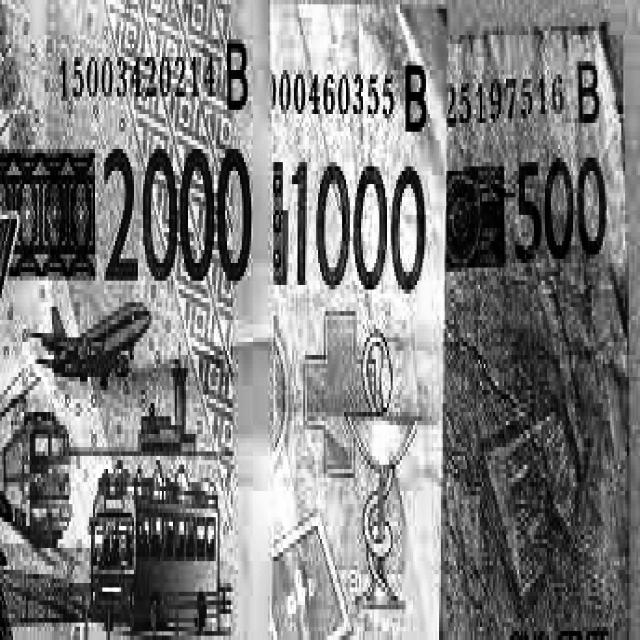niaar teemeer: (270, 7, 445, 636), (1, 389, 70, 545), (90, 445, 144, 620)
nient teemeer: (1, 3, 274, 636)
teemeer: (441, 31, 627, 636)
